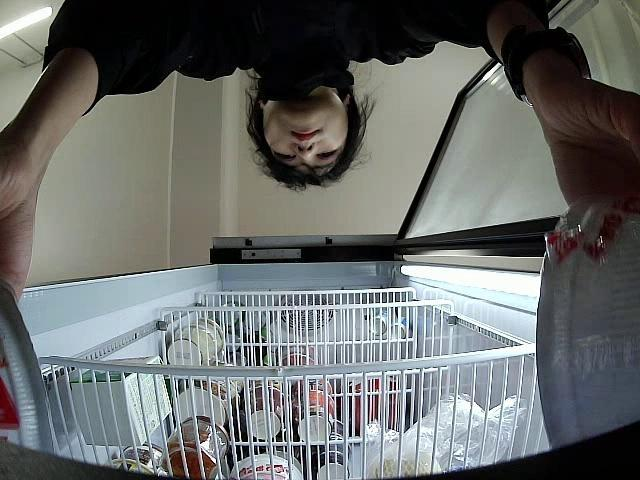09_yukGaeJang: (537, 188, 640, 452)
